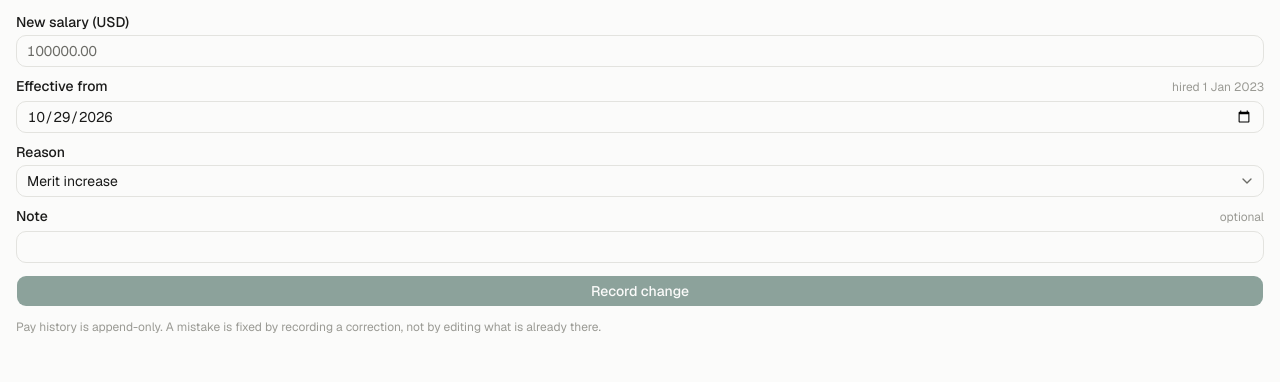
Test: PayChangeForm › shows the API validation message when a pay change is rejected
Type "110000.00" into the number field labelled "New salary (USD)" at (640, 51), box [16,35,1264,67]
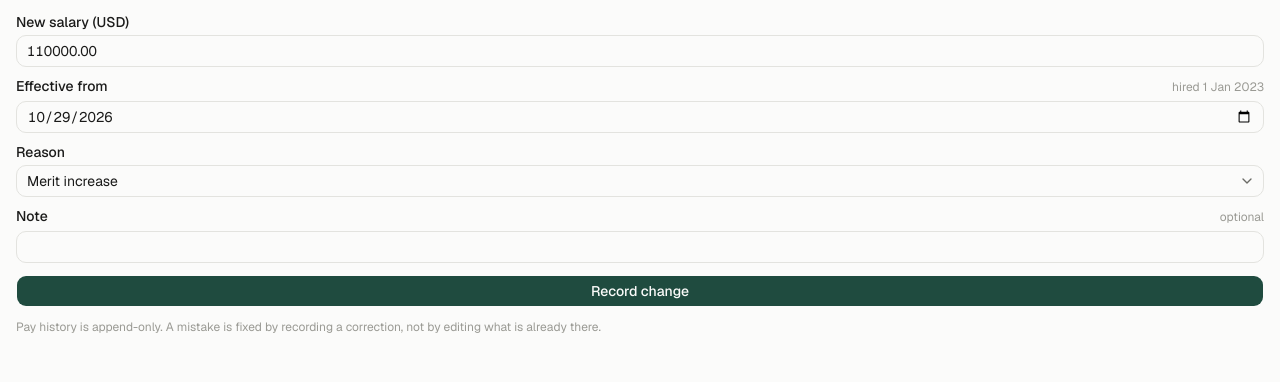
Click the button "Record change" at (640, 291), box [16,275,1264,307]
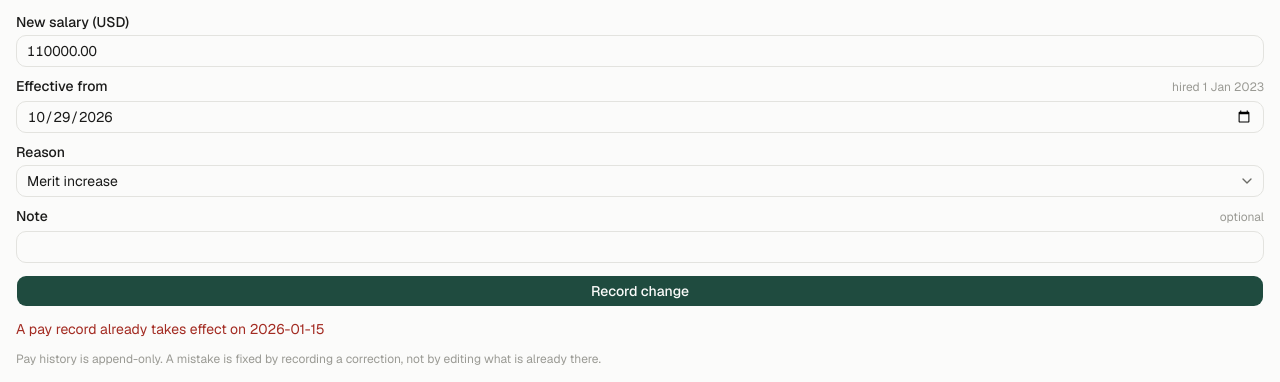
Check: the message reads "A pay record already takes effect on 2026-01-15", box [16,320,324,338]
